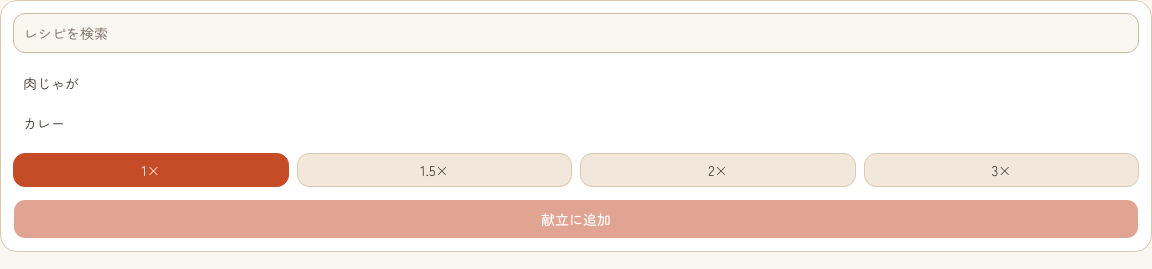
RecipePicker › WC-K-05: 追加後は選択レシピのみリセットされる（検索テキストは維持）
In the search field labelled "レシピを検索": (576, 33) [13,13,1139,53], type "肉"
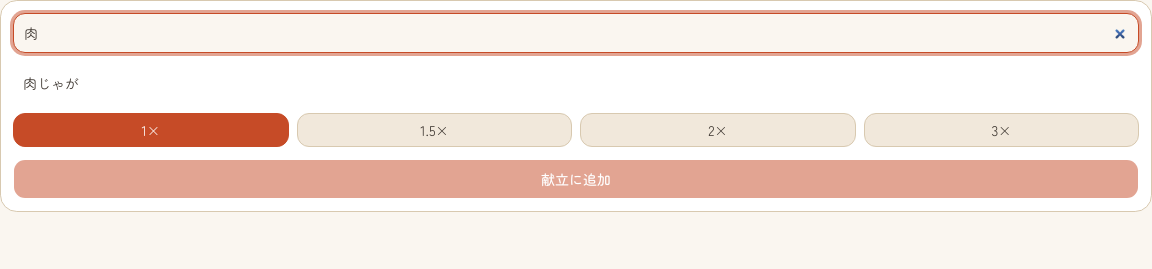
Click the button "肉じゃが": (51, 83) [13,65,1139,101]
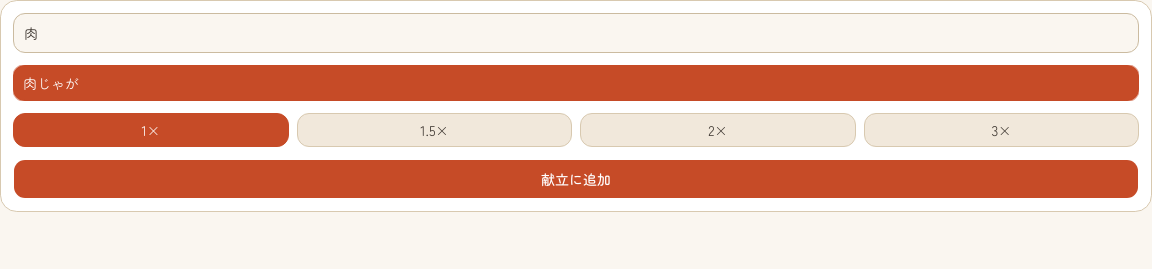
Click the button "献立に追加": (576, 179) [13,159,1139,199]
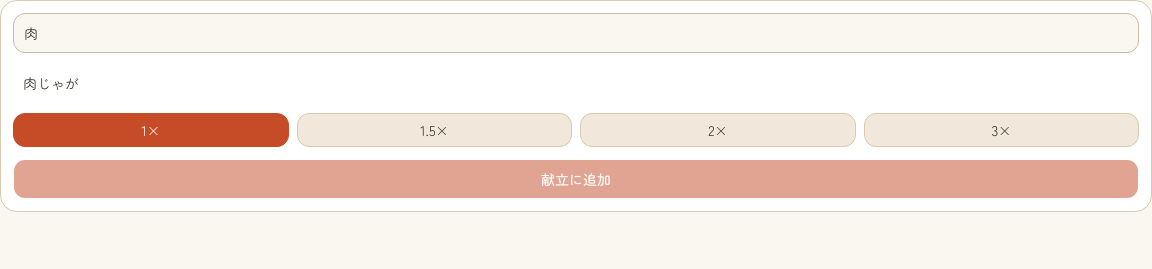
Result: the button "献立に追加" is disabled at [13,159,1139,199]
